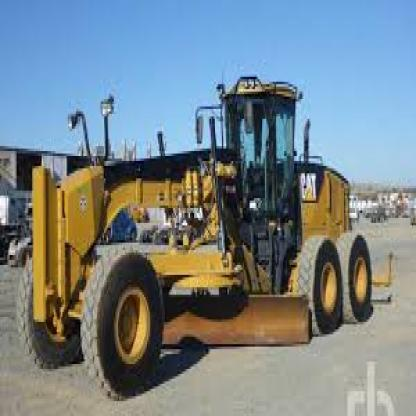bull_dozer/loader/grader: (14, 47, 392, 401)
